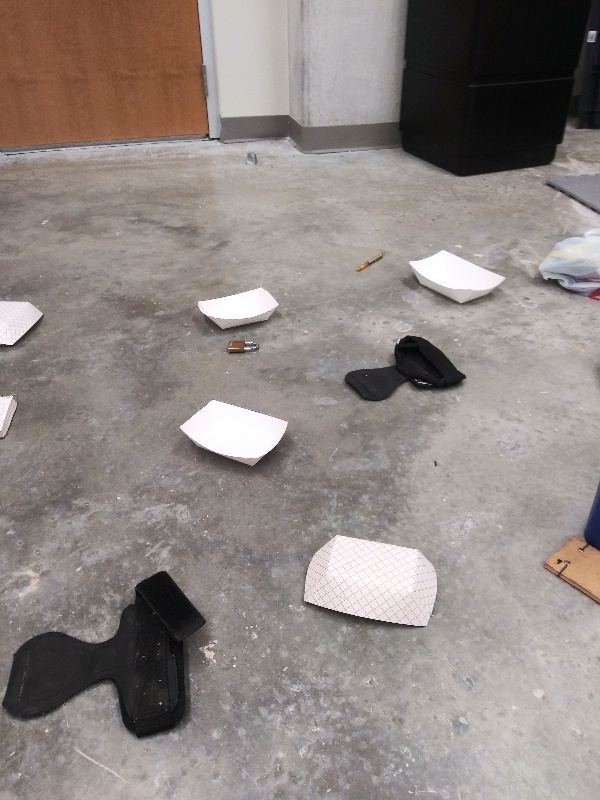plate: (297, 531, 438, 631), (172, 397, 291, 472), (400, 248, 508, 306), (194, 285, 283, 333), (1, 290, 47, 351)
